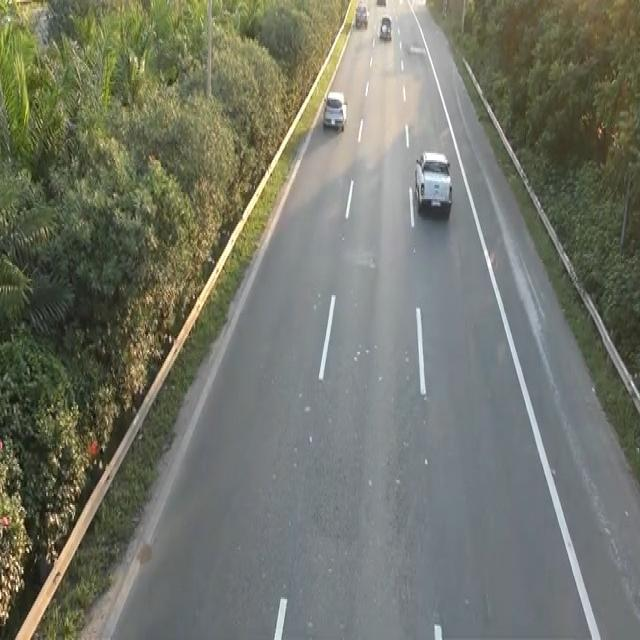bus: (322, 89, 347, 131)
car: (412, 146, 456, 224)
